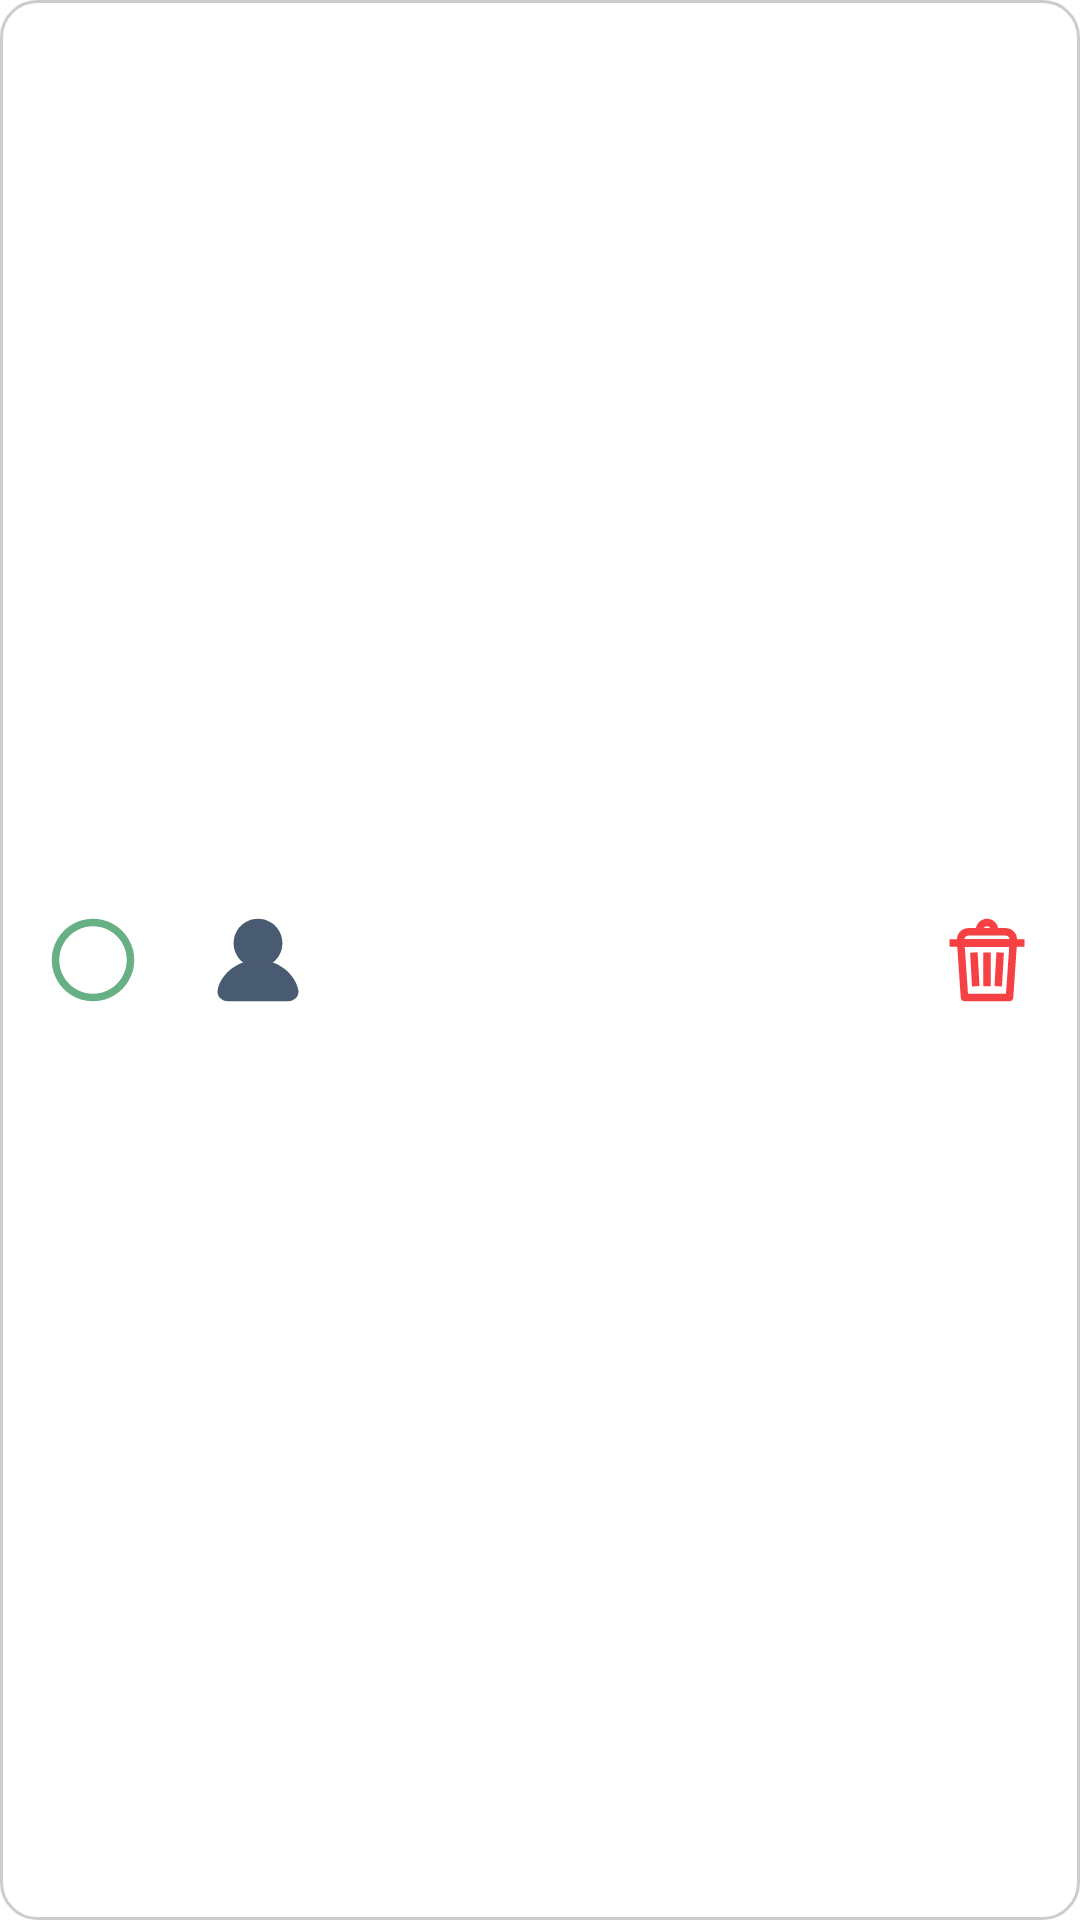

Locate icon controls on the screen. Image size 1080px x 1920px, boxes as (x1, y1, x2, y2).
circle unchecked: (51, 918, 135, 1002)
delete: (949, 918, 1025, 1002)
person: (217, 918, 299, 1002)
